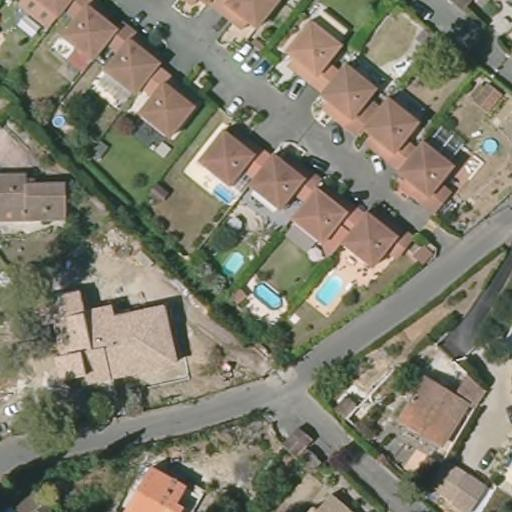pool: (252, 278, 283, 313), (311, 274, 344, 304), (220, 246, 248, 279), (212, 175, 237, 203), (45, 107, 67, 131), (475, 135, 503, 153)
